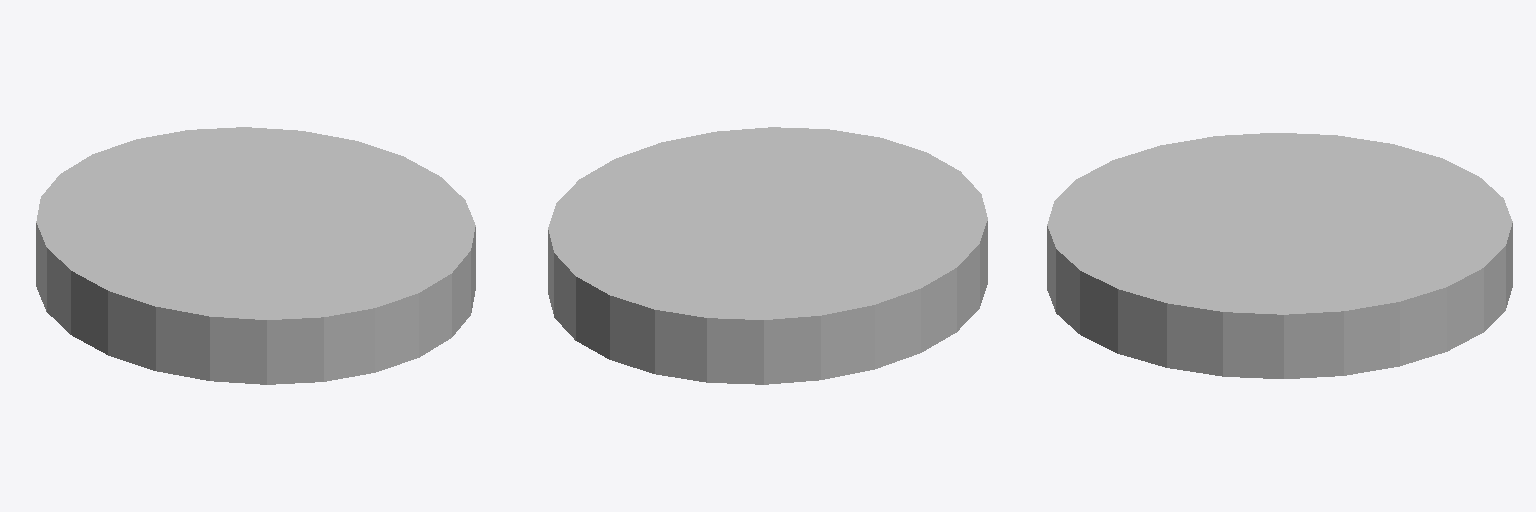
Rendered from original-29.obj.
3 renders of one model, left to right at view 1: azimuth 30°, elevation 25°; view 2: azimuth 150°, elevation 25°; view 3: azimuth 270°, elevation 25°, orthographic.
Parts seen in each view (by area): view 1: Group21/mesh16/mesh16-geometry#mesh16-geometry; view 2: Group21/mesh16/mesh16-geometry#mesh16-geometry; view 3: Group21/mesh16/mesh16-geometry#mesh16-geometry.
Part boxes in pixels (left/top/right/bottom): Group21/mesh16/mesh16-geometry#mesh16-geometry: left=36, top=127, right=475, bottom=384; Group21/mesh16/mesh16-geometry#mesh16-geometry: left=548, top=127, right=987, bottom=384; Group21/mesh16/mesh16-geometry#mesh16-geometry: left=1047, top=133, right=1512, bottom=378.
Size of the model in its own units: 0.052 by 0.0086 by 0.0561.